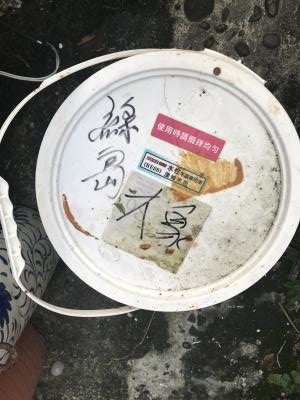plate: (31, 46, 300, 315)
